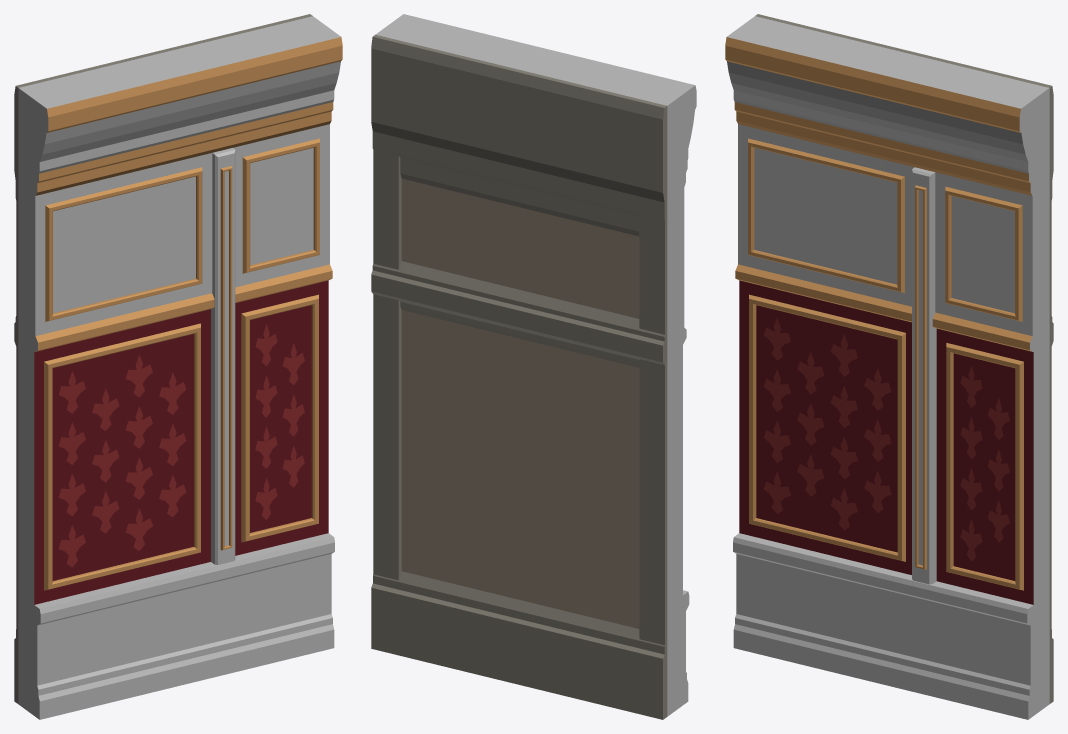
The model's file is opera-house-wall-5f3d7f.glb.
3 views of the same model, side by side, from view 1: azimuth 30°, elevation 25°; view 2: azimuth 150°, elevation 25°; view 3: azimuth 330°, elevation 25° (orthographic).
Parts seen in each view (by area): view 1: wall; view 2: wall; view 3: wall.
Part boxes in pixels (x1,y1,x2,y2): wall: [14, 14, 342, 719]; wall: [371, 14, 696, 719]; wall: [725, 14, 1053, 719].
Bounding box in the file's own units: 2 × 4 × 0.4.
